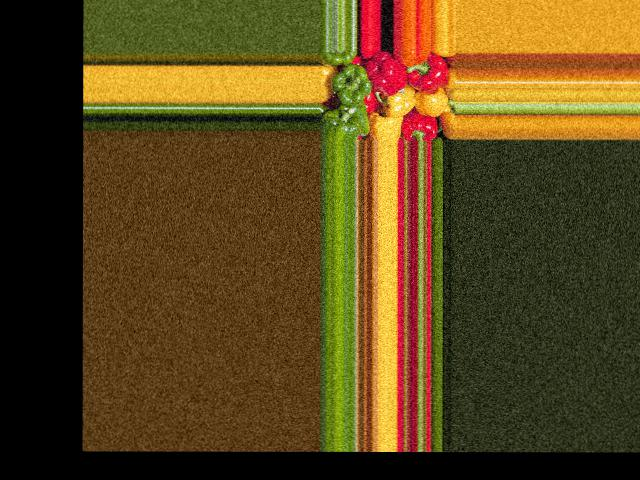bell_pepper: (320, 49, 357, 70)
